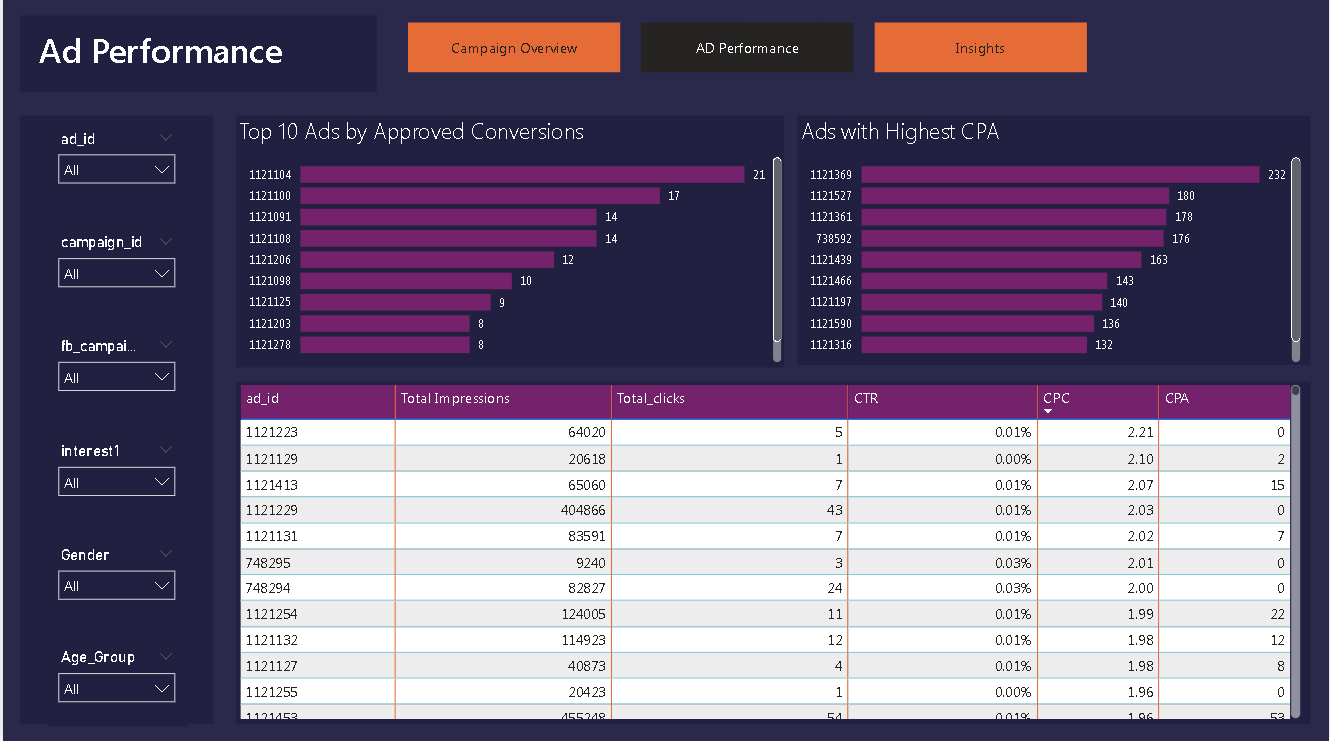

The page's visual inventory and layout, read from the dashboard file:
{"tool":"powerbi","page":{"name":"AD Performance","canvas":[1280,720],"ordinal":1},"visuals":[{"type":"shape","box":[14.5,114.6,190.6,591.2],"z":0},{"type":"shape","box":[223.2,371.6,1041.2,334.2],"z":1000},{"type":"shape","box":[223.2,114.6,533.2,247.3],"z":2000},{"type":"shape","box":[764.9,114.6,499.5,244.9],"z":3000},{"type":"clusteredBarChart","title":"Top 10 Ads by Approved Conversions","fields":{"Category":["Data.ad_id"],"Y":["All mesaures.Approved Conversions"]},"box":[223.2,114.6,533.2,244.9],"z":4000},{"type":"clusteredBarChart","title":"Ads with Highest CPA","fields":{"Category":["Data.ad_id"],"Y":["All mesaures.CPA"]},"box":[764.9,114.6,492.2,244.9],"z":5000},{"type":"tableEx","fields":{"Values":["Data.ad_id","All mesaures.Total Impressions","All mesaures.Total_clicks","All mesaures.CTR","All mesaures.CPC","All mesaures.CPA"]},"box":[223.2,371.6,1033.9,331.8],"z":6000},{"type":"slicer","fields":{"Values":["Data.ad_id"]},"box":[42.2,124.3,135.1,80.8],"z":7000},{"type":"slicer","fields":{"Values":["Data.campaign_id"]},"box":[42.2,224.7,135.1,80.8],"z":8000},{"type":"slicer","fields":{"Values":["Data.fb_campaign_id"]},"box":[42.2,325.1,135.1,80.8],"z":9000},{"type":"slicer","fields":{"Values":["Data.interest1"]},"box":[42.2,425.6,135.1,80.8],"z":10000},{"type":"slicer","fields":{"Values":["Data.Clean_gender"]},"box":[42.2,526,135.1,80.8],"z":11000},{"type":"slicer","fields":{"Values":["Data.Age_Group"]},"box":[42.2,624.9,135.1,80.8],"z":12000},{"type":"shape","box":[14.5,18.1,348.7,78.4],"z":13000},{"type":"textbox","box":[30.2,26.5,319.7,66.4],"z":15000},{"type":"pageNavigator","box":[390.9,26.5,656.3,48.3],"z":15001}]}

Visuals, with their boxes in screenshot pixels (x1, y1, x2, y2), scaled from the page's 1280x720 canvas onto the 1330x741 screenshot:
shape: detection(15, 118, 213, 726)
shape: detection(232, 382, 1314, 726)
shape: detection(232, 118, 786, 372)
shape: detection(795, 118, 1314, 370)
"Top 10 Ads by Approved Conversions" clusteredBarChart: detection(232, 118, 786, 370)
"Ads with Highest CPA" clusteredBarChart: detection(795, 118, 1306, 370)
tableEx - Data.ad_id x All mesaures.Total Impressions: detection(232, 382, 1306, 724)
slicer - Data.ad_id: detection(44, 128, 184, 211)
slicer - Data.campaign_id: detection(44, 231, 184, 314)
slicer - Data.fb_campaign_id: detection(44, 335, 184, 418)
slicer - Data.interest1: detection(44, 438, 184, 521)
slicer - Data.Clean_gender: detection(44, 541, 184, 624)
slicer - Data.Age_Group: detection(44, 643, 184, 726)
shape: detection(15, 19, 377, 99)
textbox: detection(31, 27, 364, 96)
pageNavigator: detection(406, 27, 1088, 77)
